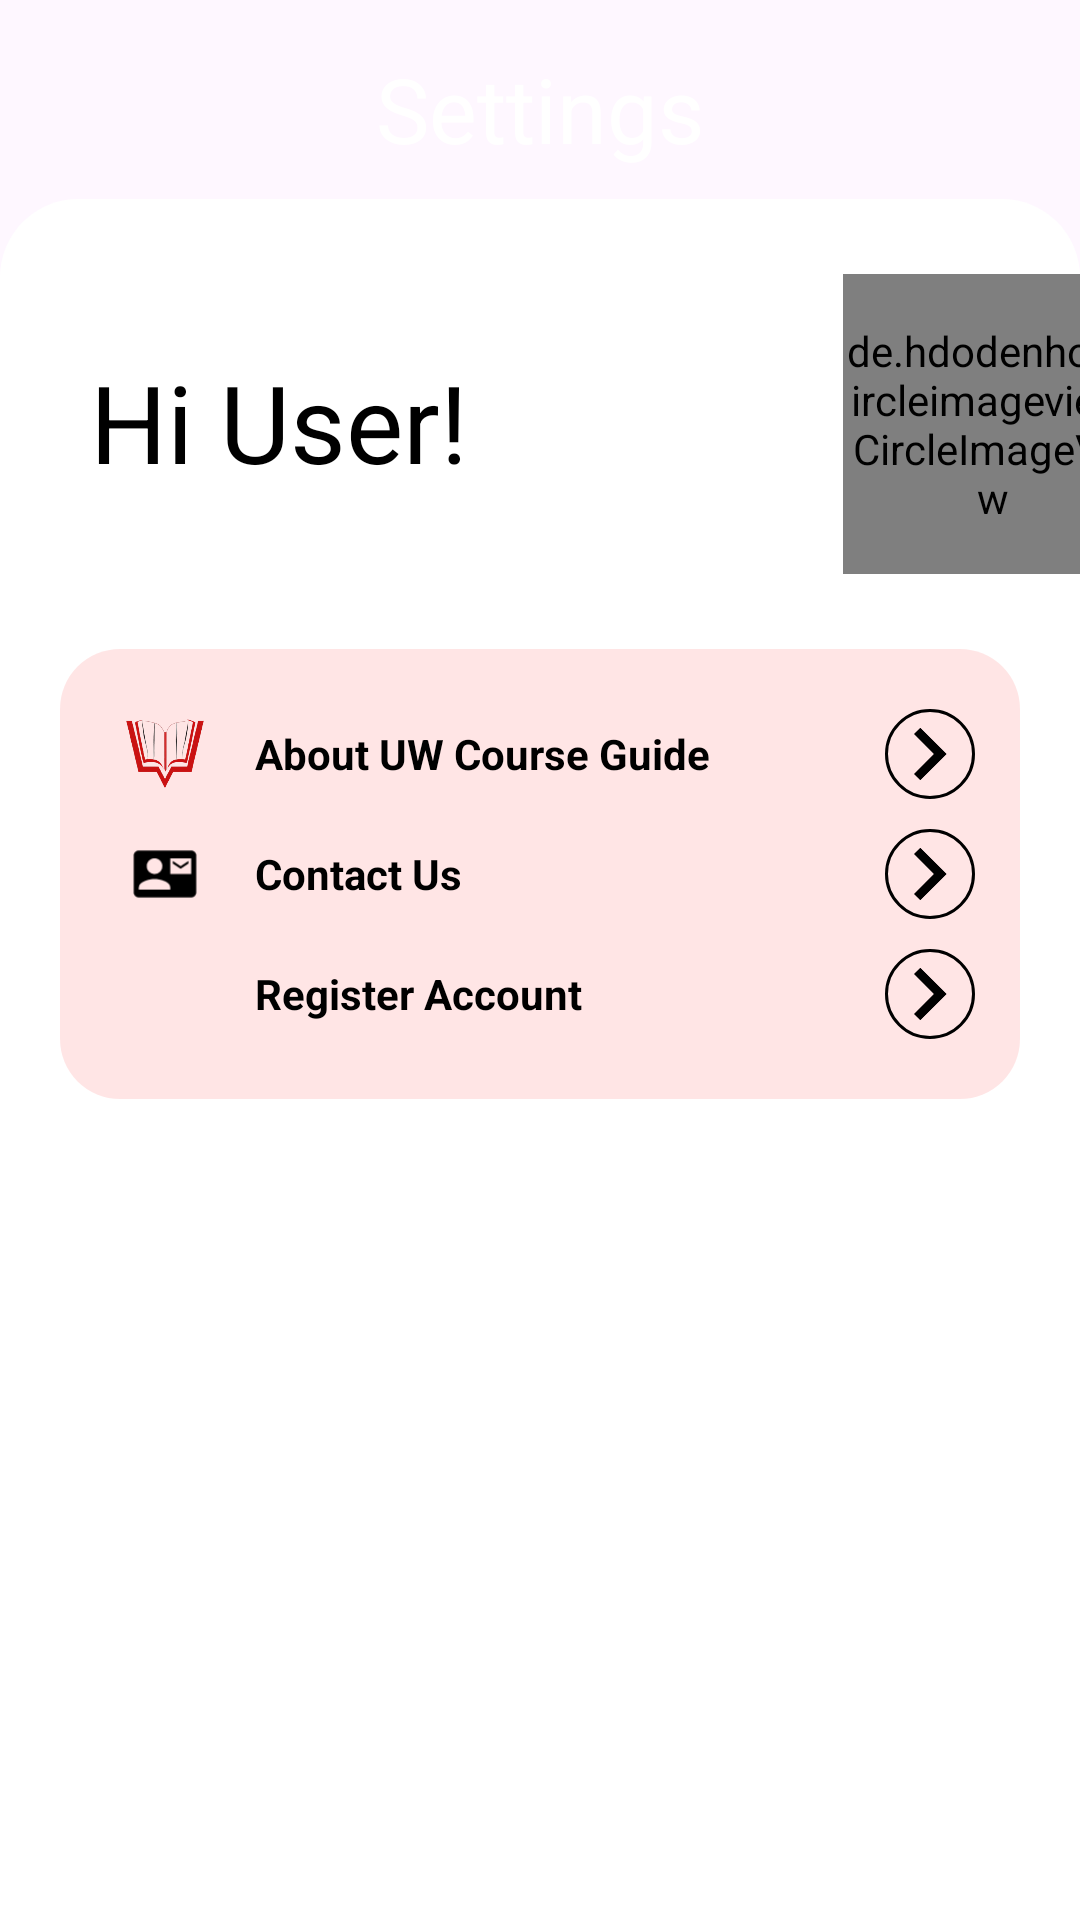

Screen size 1080x1920. Icon name, then its center in pixels as [x,y]:
rightarrow: [930,754], [930,874], [930,994]
